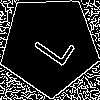L: (24, 20, 76, 69)
